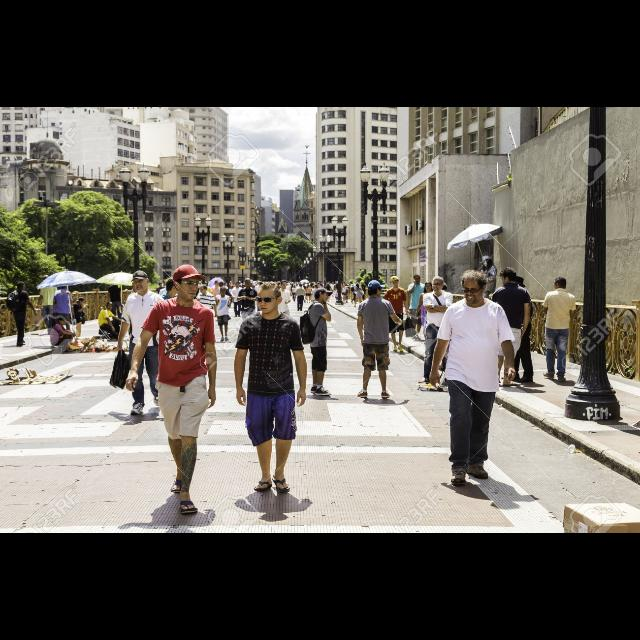head: (173, 266, 200, 300), (256, 282, 284, 314), (463, 272, 487, 306), (132, 274, 150, 294), (502, 268, 516, 288), (166, 279, 182, 295), (314, 288, 330, 304), (368, 280, 382, 298), (432, 276, 446, 292), (510, 276, 524, 290), (553, 278, 567, 290), (481, 258, 491, 268), (18, 281, 27, 291), (220, 286, 228, 296), (244, 278, 252, 288), (392, 278, 400, 288), (425, 282, 433, 292), (41, 276, 50, 284), (59, 318, 67, 327), (414, 275, 421, 285), (106, 302, 114, 310), (200, 286, 208, 294), (280, 280, 288, 288), (61, 282, 68, 290), (79, 298, 85, 304), (114, 280, 118, 286), (236, 282, 240, 288), (300, 283, 304, 287)
person: (124, 263, 218, 519), (427, 266, 519, 490), (232, 281, 310, 497), (108, 268, 172, 418), (354, 278, 404, 404), (490, 266, 532, 388), (298, 286, 336, 398), (420, 274, 456, 392), (540, 276, 578, 386), (500, 275, 534, 385), (156, 279, 184, 375), (381, 274, 411, 356), (6, 280, 38, 348), (414, 280, 442, 350), (190, 284, 218, 352), (406, 274, 434, 342), (476, 254, 500, 324), (50, 280, 76, 342), (235, 277, 259, 339), (36, 273, 59, 337), (96, 300, 128, 342), (48, 316, 78, 356), (214, 285, 234, 343), (273, 278, 293, 334), (71, 296, 89, 342), (107, 278, 123, 322), (230, 282, 246, 318), (294, 282, 306, 312)
